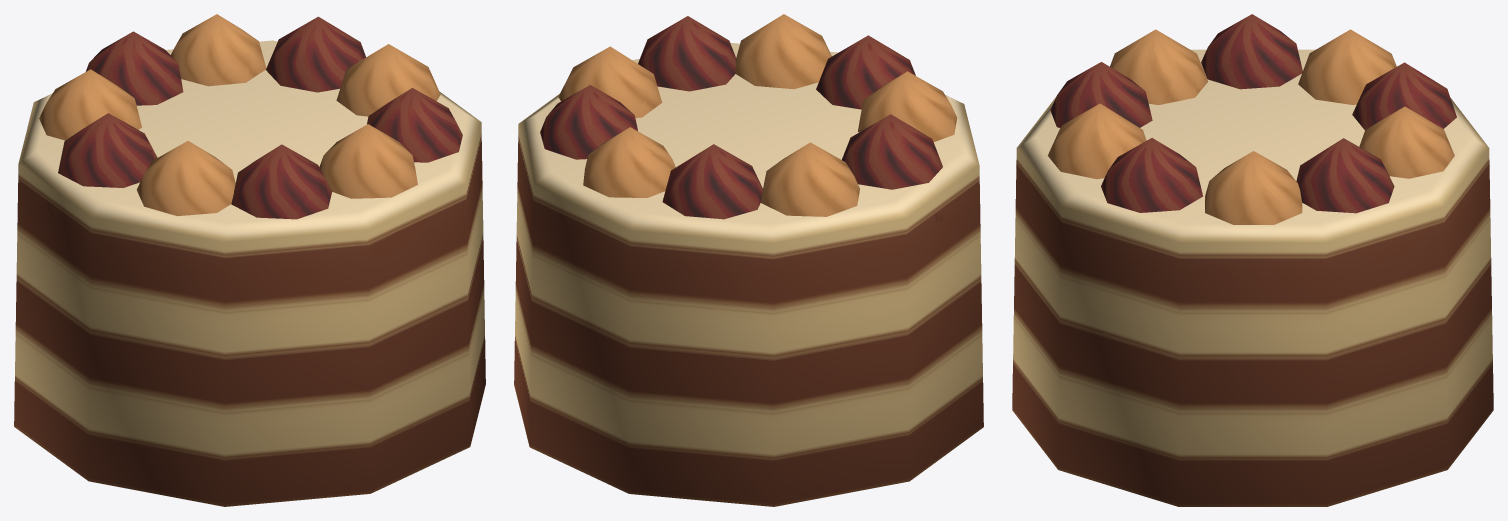
The model's file is StripeCake_Whole.fbx.
3 renders of one model, left to right at view 1: azimuth 30°, elevation 25°; view 2: azimuth 150°, elevation 25°; view 3: azimuth 270°, elevation 25°, orthographic.
Parts seen in each view (by area): view 1: SripeCake_Whole; view 2: SripeCake_Whole; view 3: SripeCake_Whole.
Boxes of the visible parts, box(x1,y1,x2,y2) form: SripeCake_Whole: box(14, 14, 485, 506); SripeCake_Whole: box(514, 14, 983, 506); SripeCake_Whole: box(1012, 14, 1493, 506).
Size of the model in its own units: 77.51 by 61.32 by 81.5.
